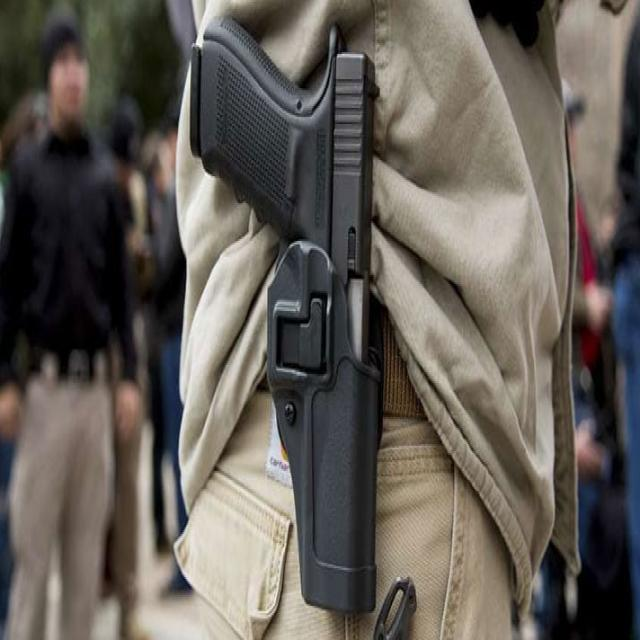Weapon: (191, 18, 381, 609)
